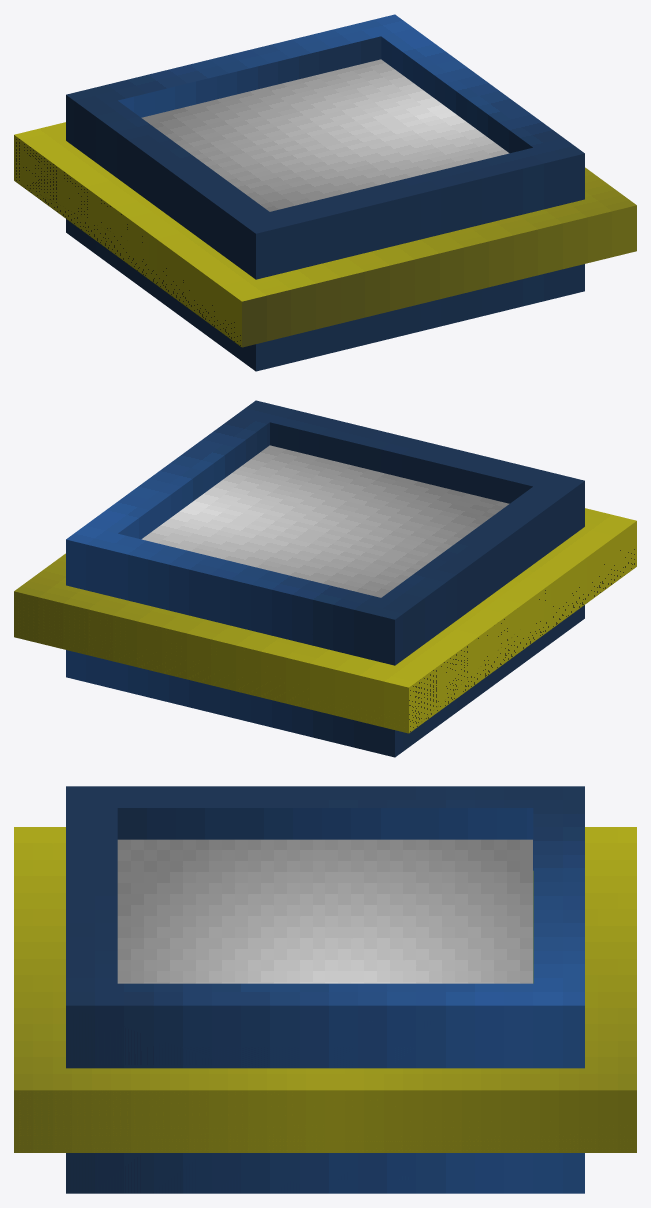
Rendered from Monitor.obj.
3 renders of one model, top to bottom at view 1: azimuth 30°, elevation 25°; view 2: azimuth 150°, elevation 25°; view 3: azimuth 270°, elevation 25°, orthographic. The views are drawn at different scales.
Parts seen in each view (by area): view 1: Monitor; view 2: Monitor; view 3: Monitor.
Part boxes in pixels (<box>): Monitor: <box>14,14,636,371</box>; Monitor: <box>14,400,636,757</box>; Monitor: <box>14,786,636,1193</box>.
Bounding box in the file's own units: 3.6 × 1.2 × 3.6.
